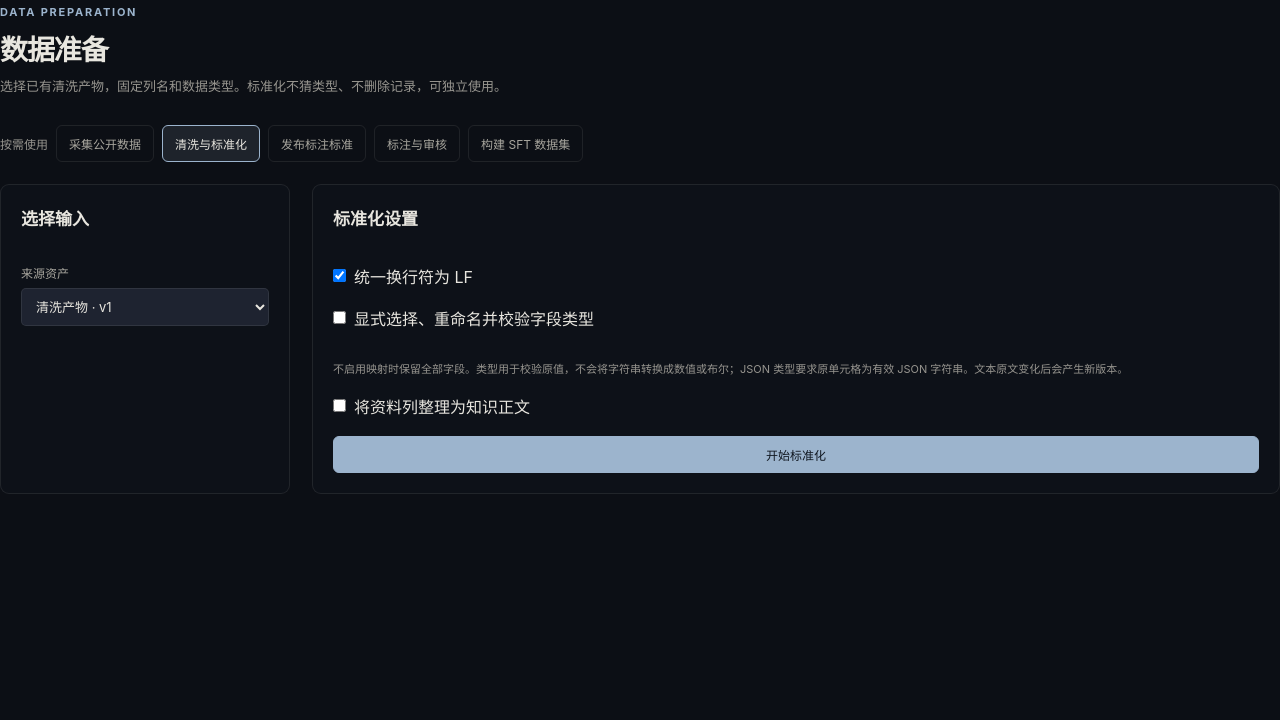
Test: independent scenario workbenches › submits cleaned input once, then exposes only actual prepared output
Submit the form, box left=312, top=184, right=1279, bottom=494
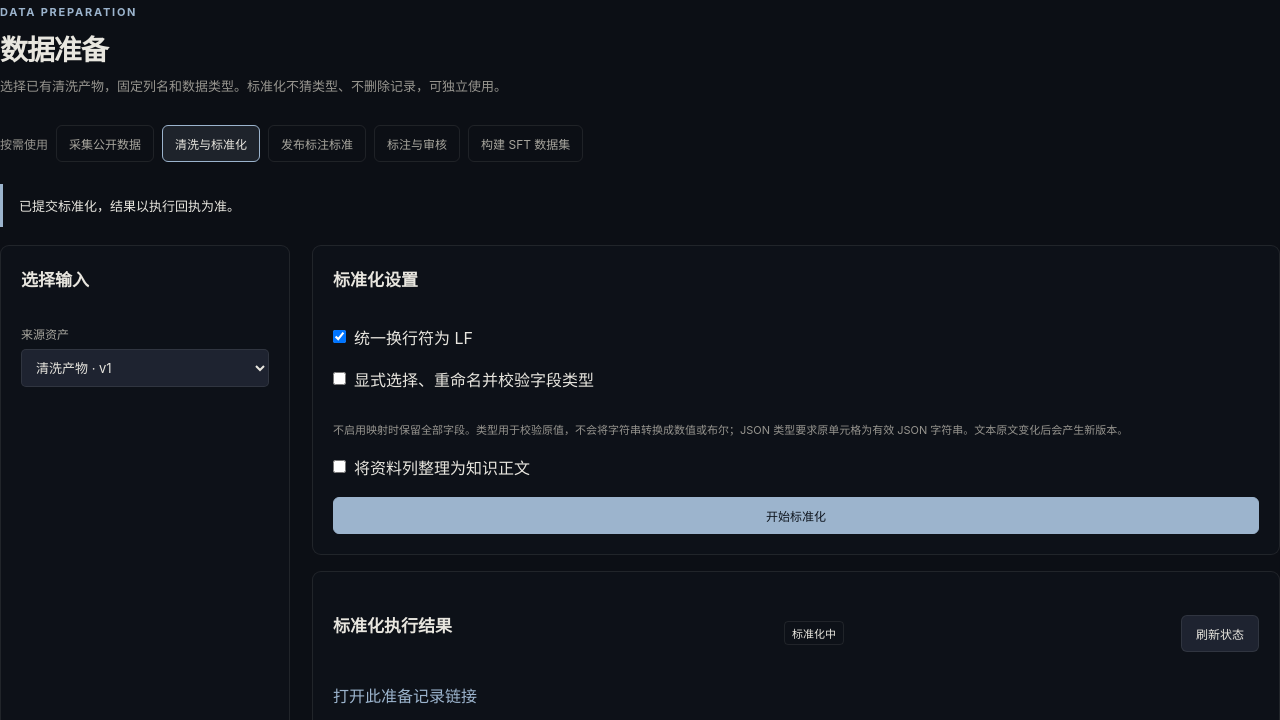
Click the button "刷新状态" at (1220, 633), box left=1181, top=615, right=1259, bottom=652
(page scrolled)
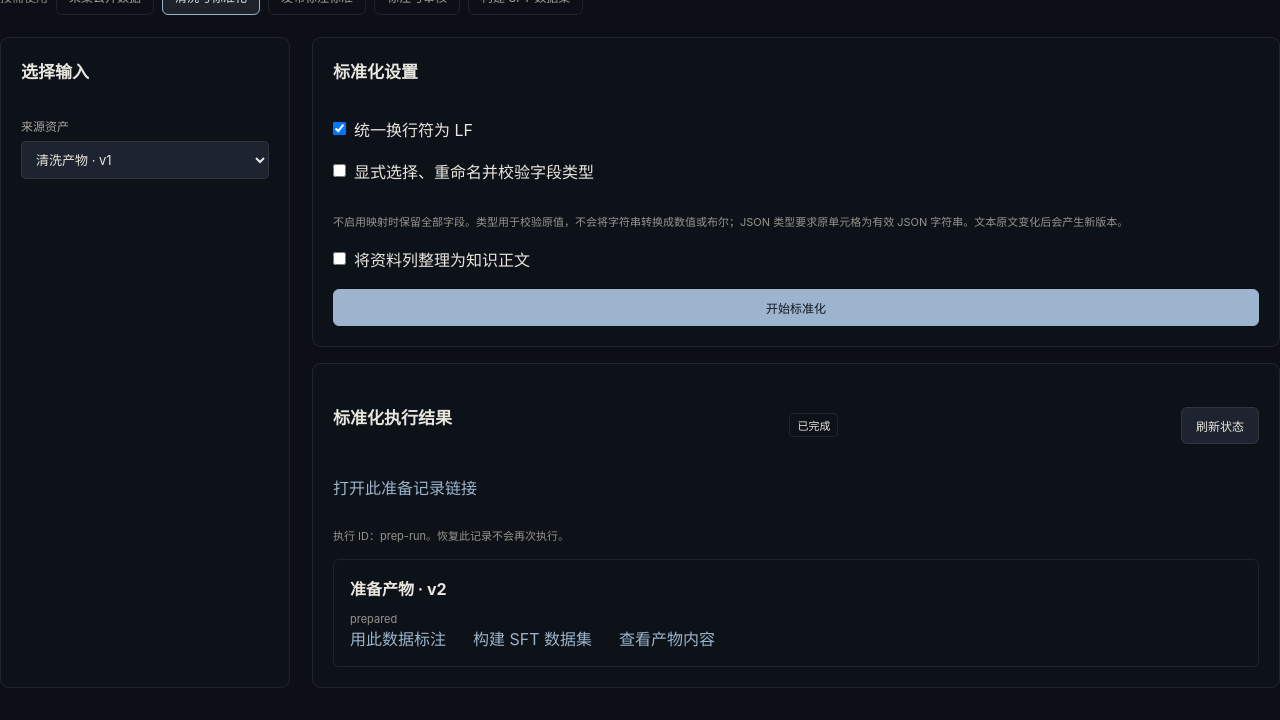
expect the link to "/labeling?source_ref=prepared:2" is shown: met, box left=350, top=626, right=446, bottom=650
